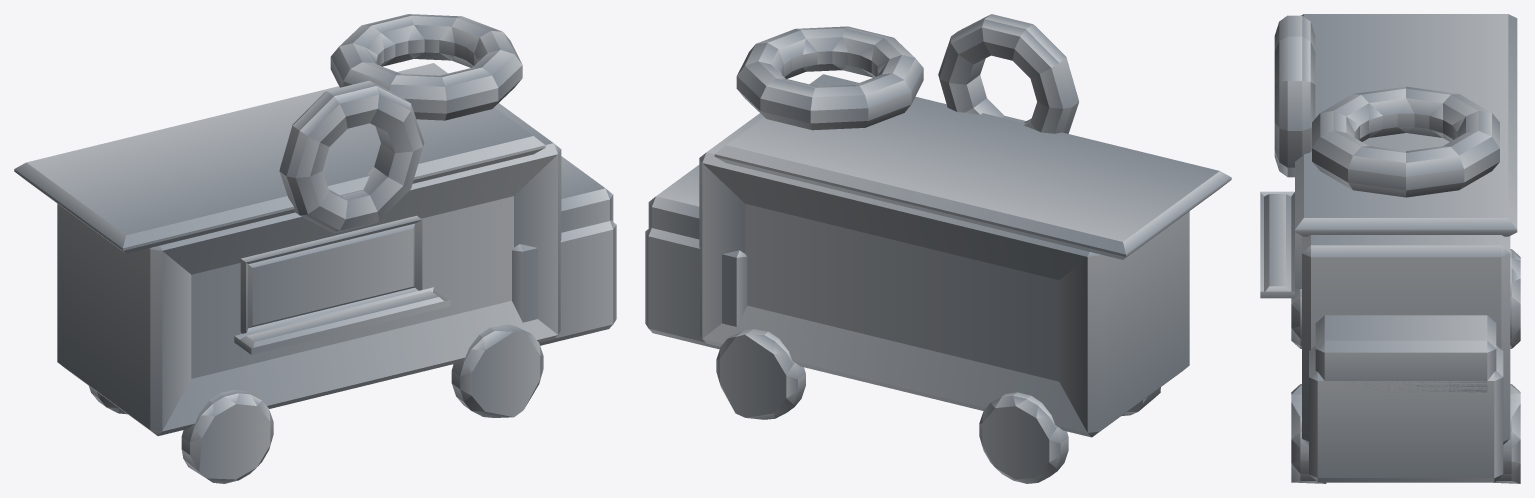
The model's file is dt_donut_food_truck.fbx.
3 renders of one model, left to right at view 1: azimuth 30°, elevation 25°; view 2: azimuth 150°, elevation 25°; view 3: azimuth 270°, elevation 25°, orthographic. The views are drawn at different scales.
Parts seen in each view (by area): view 1: dt_donut_food_truck; view 2: dt_donut_food_truck; view 3: dt_donut_food_truck.
Part boxes in pixels (x1,y1,x2,y2): dt_donut_food_truck: (14,14,616,483); dt_donut_food_truck: (645,14,1231,483); dt_donut_food_truck: (1260,14,1520,483).
Bounding box in the file's own units: 1800 × 1251 × 785.
